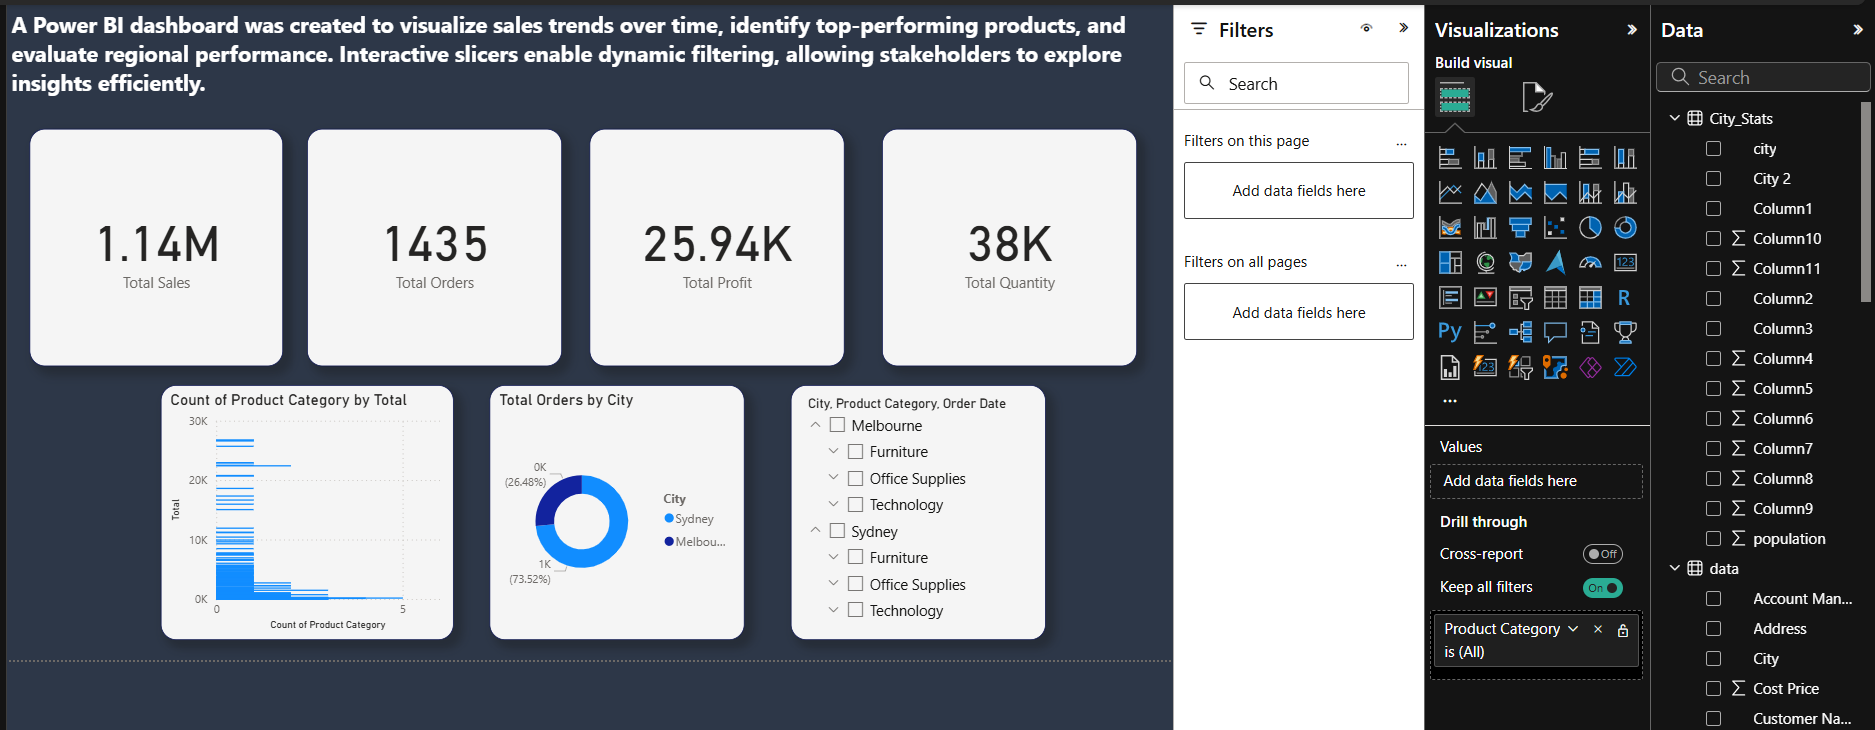

What the dashboard file says about the page in this screenshot:
{"tool":"powerbi","page":{"name":"Page 1","canvas":[1280,720],"ordinal":0},"visuals":[{"type":"card","fields":{"Values":["data.Total Sales"]},"box":[24.2,136.4,278.8,260.6],"z":0},{"type":"card","fields":{"Values":["data.Total Profit"]},"box":[639.4,136.4,280.3,260.6],"z":1000},{"type":"card","fields":{"Values":["data.Total Quantity"]},"box":[960.6,136.4,280.3,260.6],"z":2000},{"type":"card","fields":{"Values":["data.Total Orders"]},"box":[328.8,136.4,280.3,260.6],"z":3000},{"type":"slicer","fields":{"Values":["data.City","data.Product Category","data.Order Date"]},"box":[860.6,416.7,280.3,280.3],"z":4000},{"type":"textbox","box":[0,0,1280.3,124.2],"z":5000},{"type":"barChart","fields":{"Y":["CountNonNull(data.Product Category)"],"Category":["data.Total"]},"box":[168.2,416.7,321.2,280.3],"z":6000},{"type":"donutChart","fields":{"Y":["data.Total Orders"],"Category":["data.City"]},"box":[530.3,416.7,280.3,280.3],"z":7000}]}

Visuals, with their boxes on the page's 1280x720 design canvas (x1, y1, x2, y2). These are canvas units, not pixel positions in the 1875x730 screenshot, which may show the page scaled, cropped or inside an application window:
card - data.Total Sales: {"left": 24, "top": 136, "right": 303, "bottom": 397}
card - data.Total Profit: {"left": 639, "top": 136, "right": 920, "bottom": 397}
card - data.Total Quantity: {"left": 961, "top": 136, "right": 1241, "bottom": 397}
card - data.Total Orders: {"left": 329, "top": 136, "right": 609, "bottom": 397}
slicer - data.City x data.Product Category: {"left": 861, "top": 417, "right": 1141, "bottom": 697}
textbox: {"left": 0, "top": 0, "right": 1280, "bottom": 124}
barChart - CountNonNull(data.Product Category) x data.Total: {"left": 168, "top": 417, "right": 489, "bottom": 697}
donutChart - data.Total Orders x data.City: {"left": 530, "top": 417, "right": 811, "bottom": 697}
